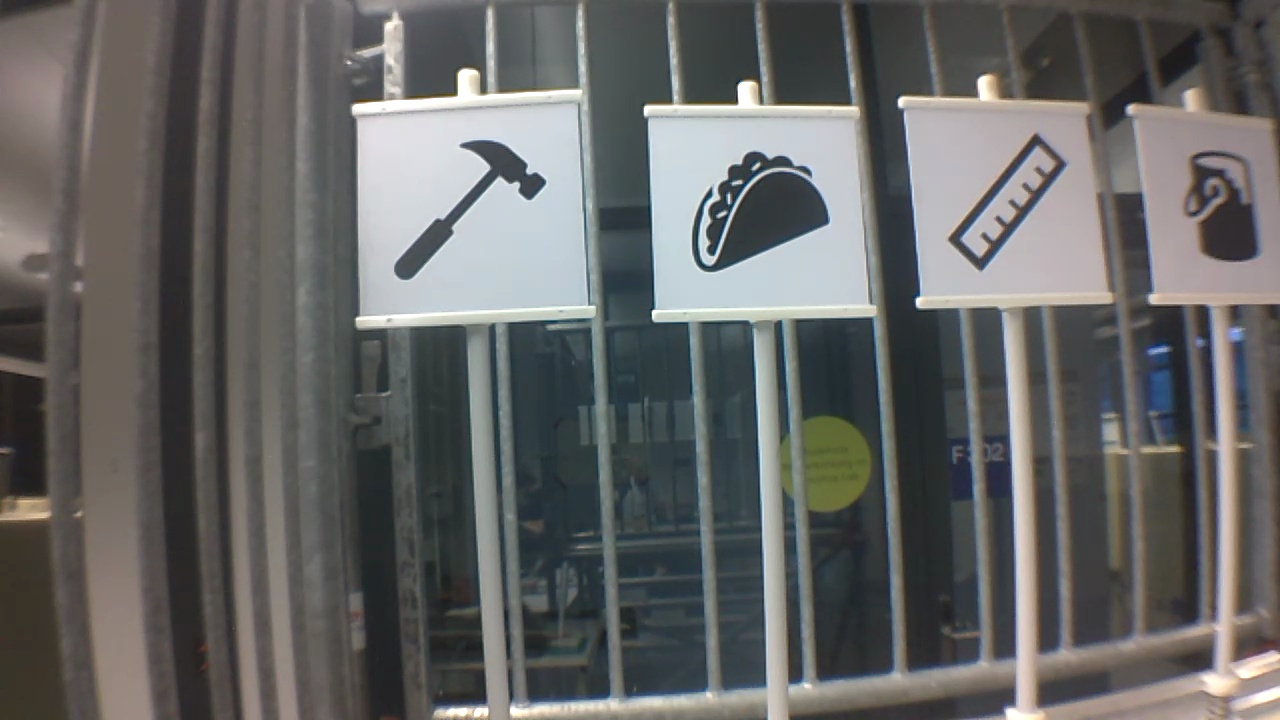bucket: (1179, 146, 1264, 263)
hammer: (382, 131, 553, 289)
ruler: (948, 133, 1072, 269)
taco: (674, 145, 831, 280)
